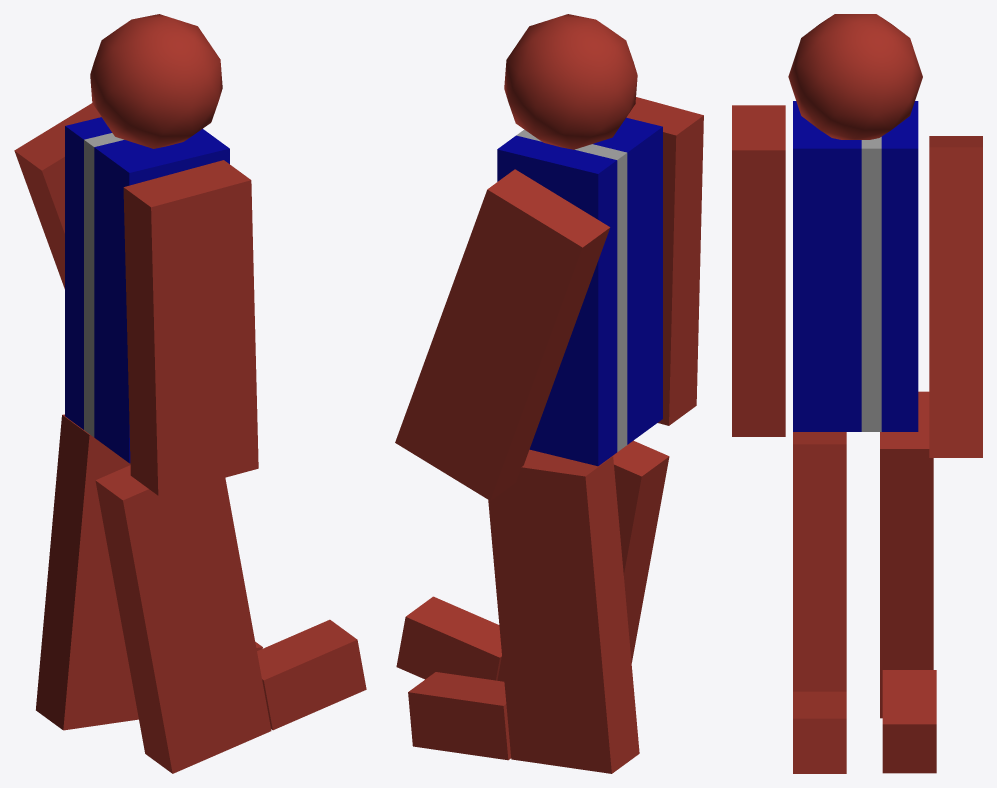
Rendered from player_000038.obj.
3 renders of one model, left to right at view 1: azimuth 30°, elevation 25°; view 2: azimuth 150°, elevation 25°; view 3: azimuth 270°, elevation 25°, orthographic. The views are drawn at different scales.
Parts seen in each view (by area): view 1: Cube.005, Cube.001, Cube, Cube.002, Icosphere, Cube.003, Cube.006; view 2: Cube.002, Cube.006, Cube, Icosphere, Cube.005, Cube.004, Cube.003, Cube.001; view 3: Cube, Cube.005, Cube.006, Cube.001, Cube.002, Icosphere, Cube.004, Cube.003.
Part boxes in pixels (box(x1,y1,x2,y2)): Cube.005: box(123, 160, 258, 495); Cube.001: box(95, 465, 271, 773); Cube: box(65, 117, 229, 463); Cube.002: box(36, 414, 138, 730); Icosphere: box(90, 14, 222, 148); Cube.003: box(257, 619, 366, 730); Cube.006: box(14, 103, 101, 288); Cube.002: box(488, 449, 639, 773); Cube.006: box(395, 169, 610, 500); Cube: box(497, 117, 662, 466); Icosphere: box(504, 14, 637, 149); Cube.005: box(626, 97, 703, 425); Cube.004: box(408, 672, 510, 760); Cube.003: box(396, 596, 501, 680); Cube.001: box(497, 440, 669, 681); Cube: box(793, 101, 918, 431); Cube.005: box(732, 105, 785, 436); Cube.006: box(929, 136, 982, 457); Cube.001: box(793, 432, 846, 691); Cube.002: box(880, 391, 933, 718); Icosphere: box(788, 14, 922, 139); Cube.004: box(882, 670, 936, 773); Cube.003: box(793, 691, 846, 773).
Size of the model in its own units: 1.06 by 2.85 by 0.9137.
